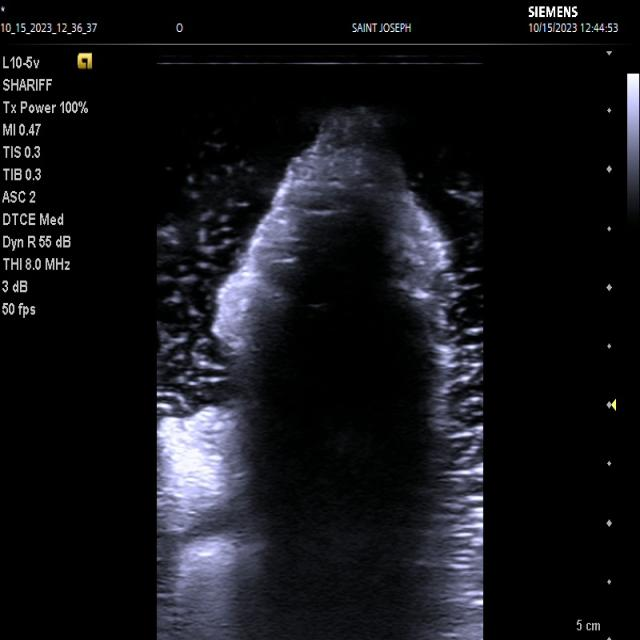tissue: (157, 113, 482, 640)
